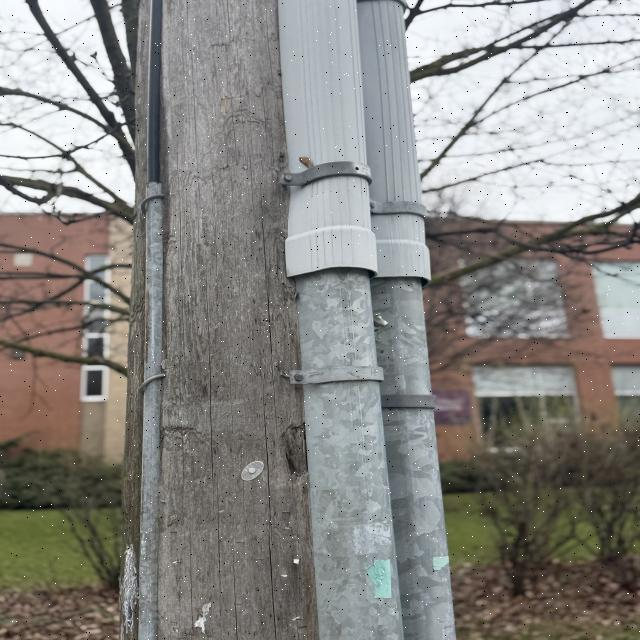Electrical Pole: (96, 1, 460, 640)
